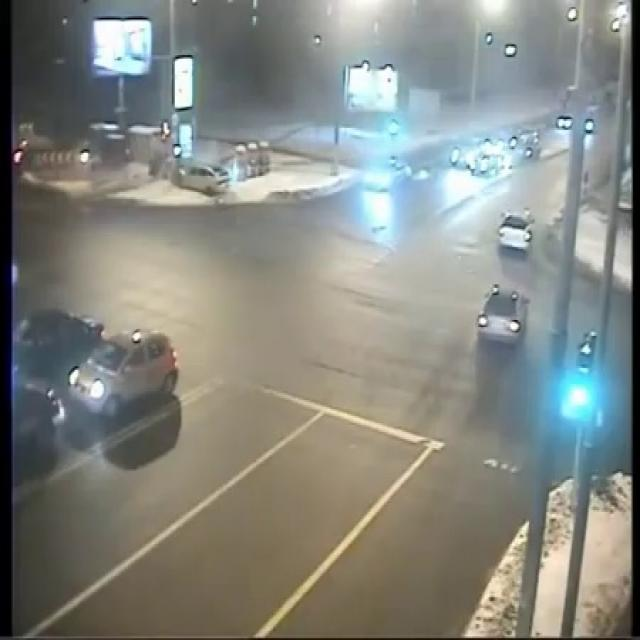accident: (154, 148, 232, 198)
